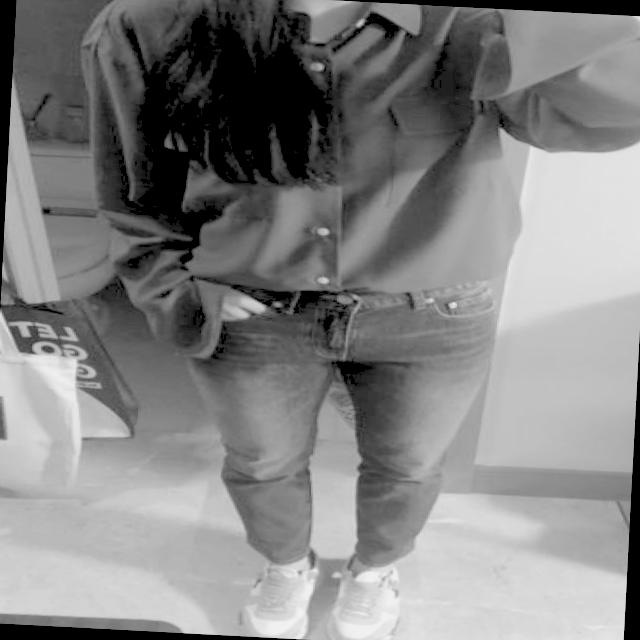denimpants: (180, 272, 499, 577)
shirt: (59, 0, 640, 380)
